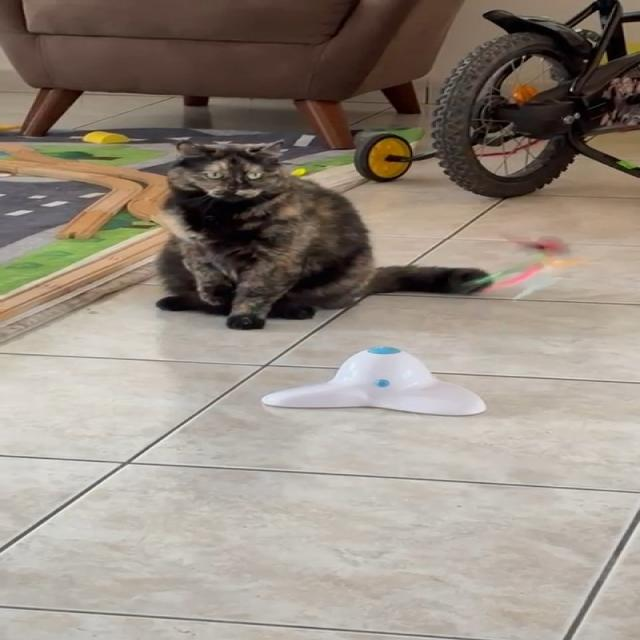authorized: (152, 137, 493, 330)
